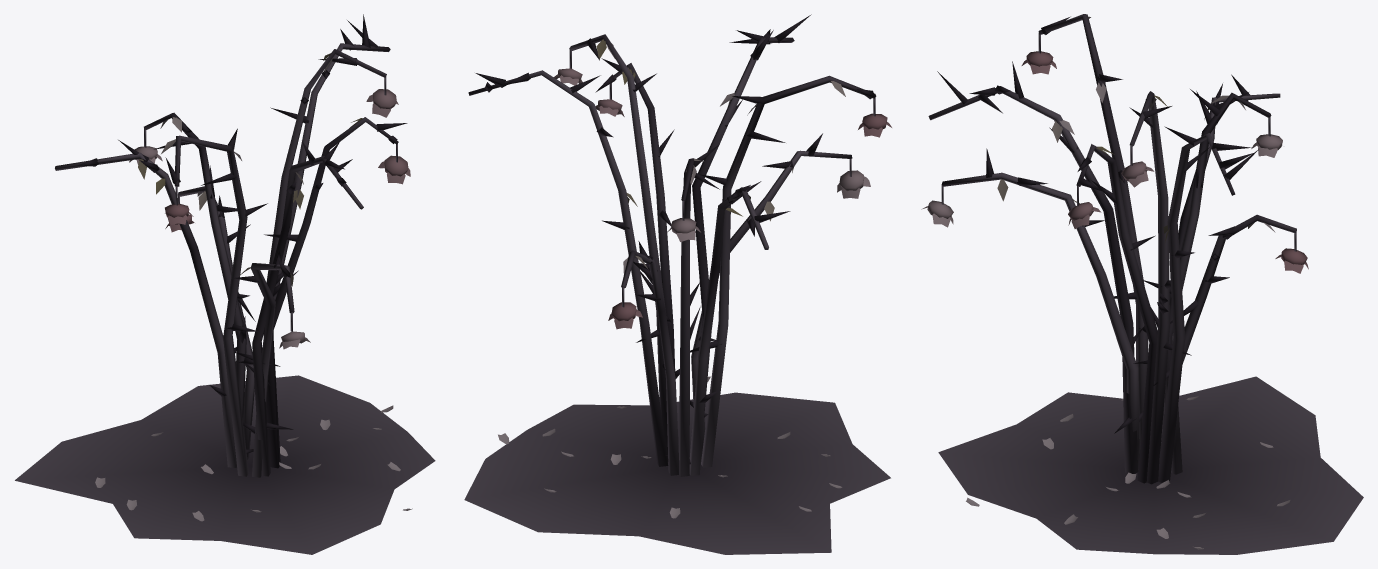
The model's file is blight_rose_bush.glb.
3 views of the same model, side by side, from view 1: azimuth 30°, elevation 25°; view 2: azimuth 150°, elevation 25°; view 3: azimuth 270°, elevation 25° (orthographic). The views are drawn at different scales.
Visible parts, largest first — view 1: blight_rose_bush; view 2: blight_rose_bush; view 3: blight_rose_bush.
Part boxes in pixels (x1,y1,x2,y2): blight_rose_bush: (15,14,435,554); blight_rose_bush: (464,14,891,554); blight_rose_bush: (921,14,1363,554).
Size of what is drawn, in the model's own units: 1.2 by 1.29 by 1.2.
